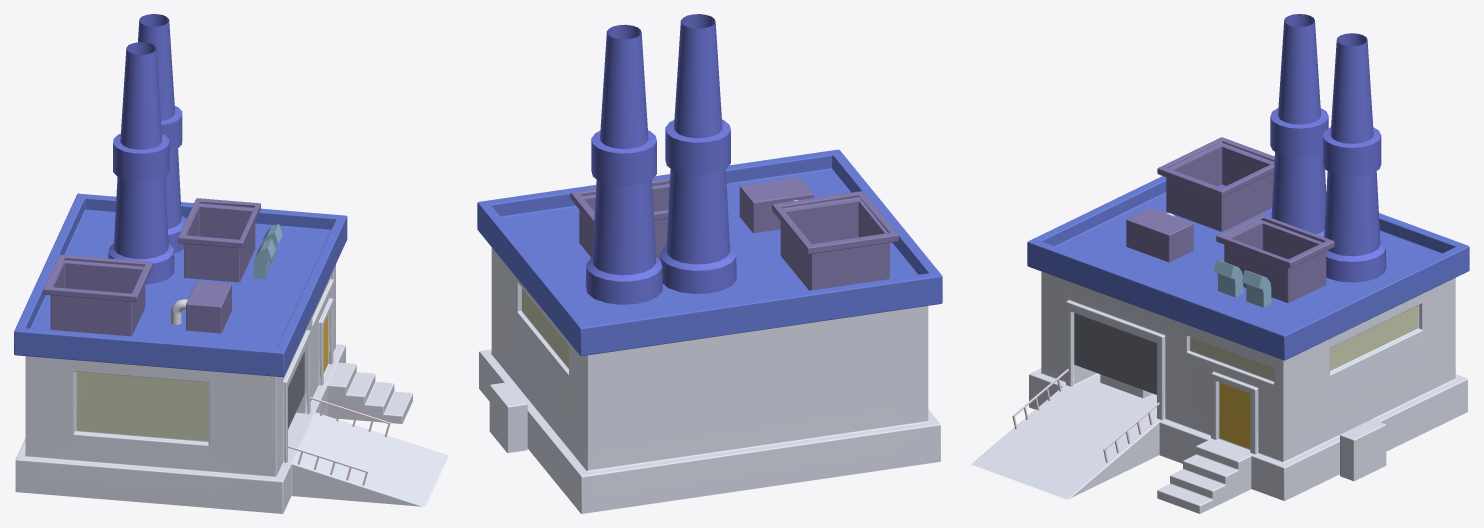
The model's file is Factory.glb.
3 renders of one model, left to right at view 1: azimuth 30°, elevation 25°; view 2: azimuth 150°, elevation 25°; view 3: azimuth 270°, elevation 25°, orthographic. The views are drawn at different scales.
Parts seen in each view (by area): view 1: Factory; view 2: Factory; view 3: Factory.
Boxes of the visible parts, bbox=[...] form: Factory: bbox=[14, 14, 448, 513]; Factory: bbox=[477, 14, 942, 513]; Factory: bbox=[971, 14, 1469, 513].
Bounding box in the file's own units: 3.63 × 3.3 × 3.89.
